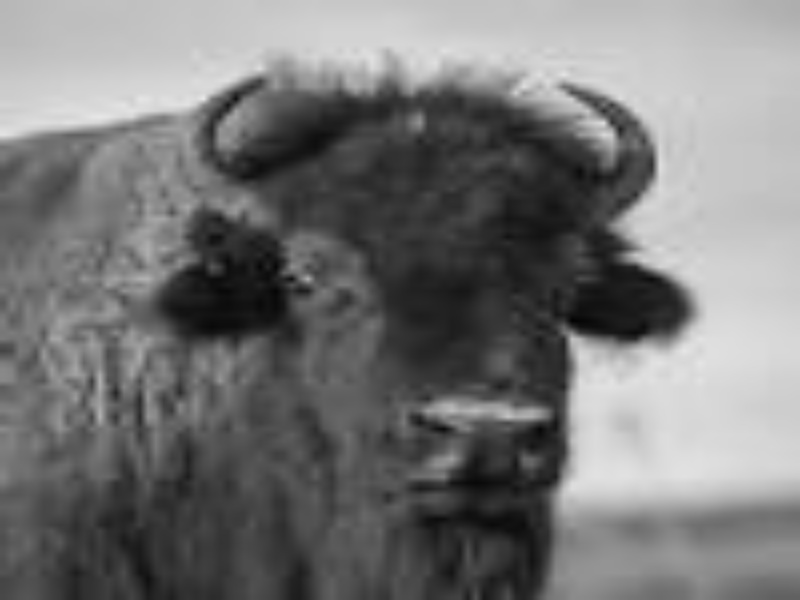buffalo: (18, 73, 707, 573)
